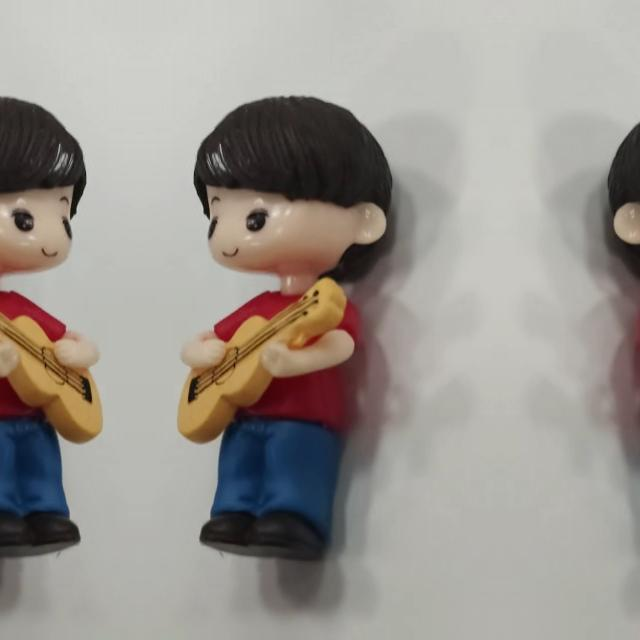man cloth: (184, 288, 386, 440), (0, 287, 96, 440), (614, 287, 640, 440)
man head: (190, 89, 400, 281), (0, 89, 90, 281), (599, 89, 640, 281)
trousers: (190, 420, 370, 574), (0, 419, 89, 574), (630, 419, 640, 574)
